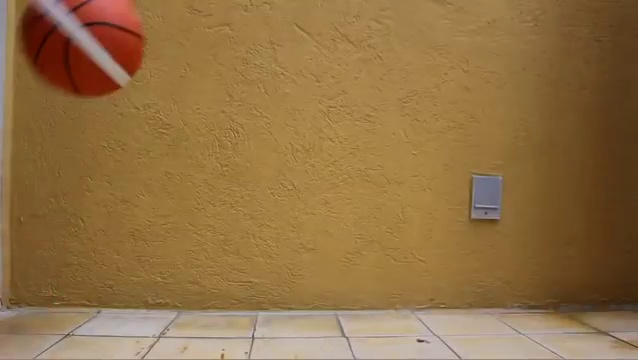ball: (20, 1, 154, 98)
